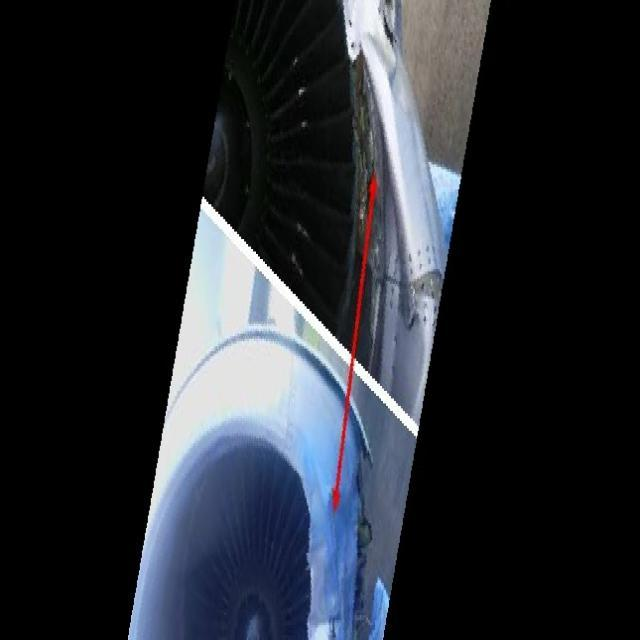dent: (327, 489, 361, 584), (369, 11, 394, 86)
